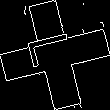L_E: (27, 34, 83, 76)
